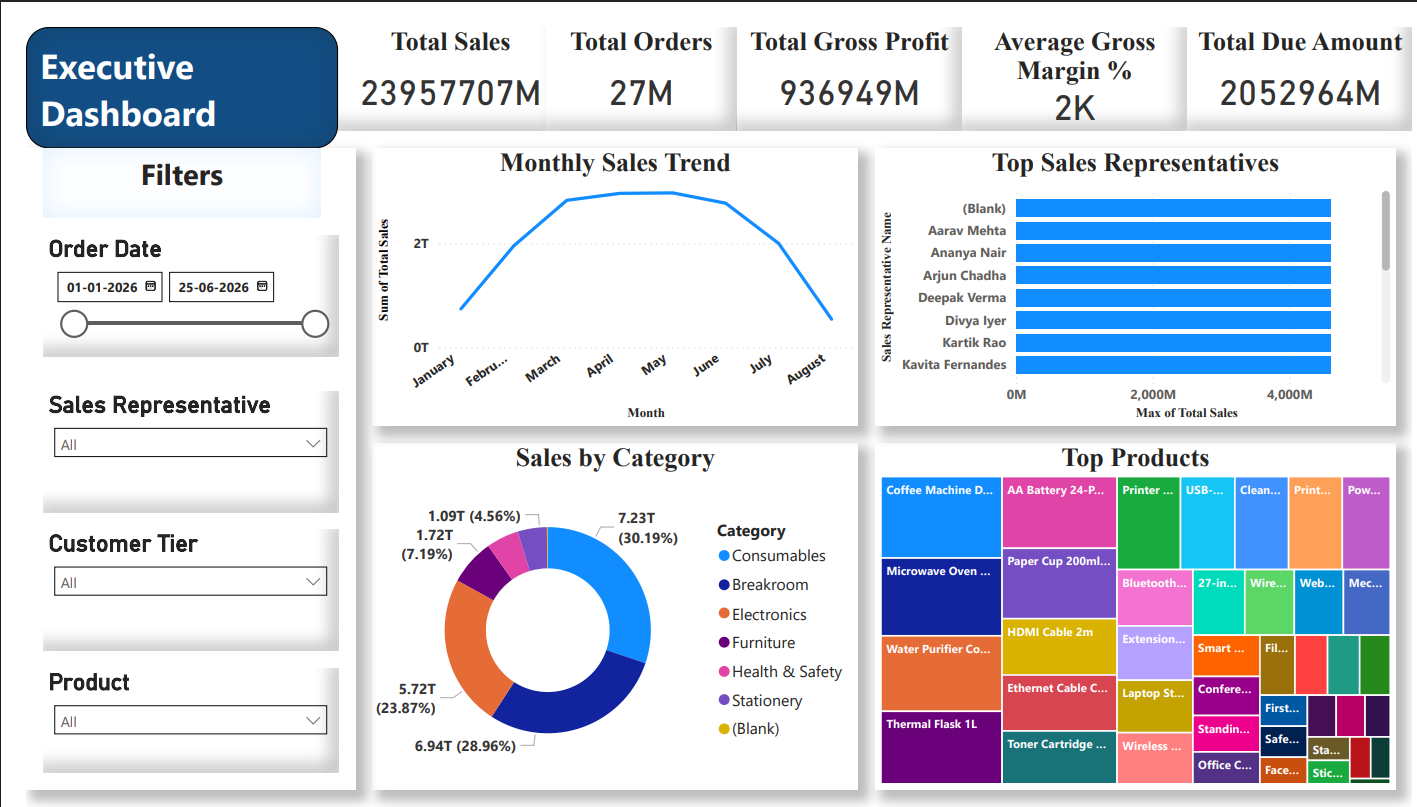

Layout of this report page (visuals, bound fields, positions):
{"tool":"powerbi","page":{"name":"Executive Dashboard","canvas":[1280,720],"ordinal":0},"visuals":[{"type":"advanceCardE03760C5AB684758B56AA29F9E6C257B","title":"Total Sales","fields":{"mainMeasure":["Sum(Sales By Product.Total Sales)"]},"box":[288,0,208,96],"z":0},{"type":"advanceCardE03760C5AB684758B56AA29F9E6C257B","title":"Total Orders","fields":{"mainMeasure":["Sum(Sales By Product.Total Orders)"]},"box":[480,0,176,96],"z":1000},{"type":"advanceCardE03760C5AB684758B56AA29F9E6C257B","title":"Total Gross Profit","fields":{"mainMeasure":["Sum(Sales By Product.Gross Profit)"]},"box":[656,0,208,96],"z":2000},{"type":"advanceCardE03760C5AB684758B56AA29F9E6C257B","title":"Average Gross Margin %","fields":{"mainMeasure":["Sum(Sales By Product.Gross Margin %)"]},"box":[864,0,208,96],"z":3000},{"type":"advanceCardE03760C5AB684758B56AA29F9E6C257B","title":"Total Due Amount","fields":{"mainMeasure":["Sum(Sales By Product.Total Due Amount)"]},"box":[1072,0,208,96],"z":4000},{"type":"donutChart","title":"Sales by Category","fields":{"Category":["Sales By Product.Category"],"Y":["Sum(Sales By Product.Total Sales)"]},"box":[320,384,448,320],"z":5000},{"type":"treemap","title":"Top Products","fields":{"Group":["Sales By Product.Product Name"],"Values":["Sum(Sales By Product.Total Sales)"]},"box":[784,384,480,320],"z":6000},{"type":"lineChart","title":"Monthly Sales Trend","fields":{"Y":["Sum(Sales By Product.Total Sales)"],"Category":["Sales By Product.Payment Date.Variation.Date Hierarchy.Month"]},"box":[320,112,448,256],"z":7000},{"type":"barChart","title":"Top Sales  Representatives","fields":{"Y":["Max(Sales By Product.Total Sales)"],"Category":["Sales By Product.Sales Representative Name"]},"box":[784,112,480,256],"z":8000},{"type":"textbox","box":[0,0,288,112],"z":9000},{"type":"textbox","box":[0,112,304,592],"z":10000},{"type":"textbox","box":[16,112,256,64],"z":11000},{"type":"slicer","title":"Order Date","fields":{"Values":["Sales By Product.Order Date"]},"box":[16,192,272,112],"z":12000},{"type":"slicer","title":"Sales Representative","fields":{"Values":["Sales By Product.Sales Representative Name"]},"box":[16,336,272,112],"z":13000},{"type":"slicer","title":"Product","fields":{"Values":["Sales By Product.Product Name"]},"box":[16,592,272,96],"z":14000},{"type":"slicer","title":"Customer Tier","fields":{"Values":["Sales By Product.Customer Tier"]},"box":[16,464,272,112],"z":15000}]}

Visuals, with their boxes in screenshot pixels (x1, y1, x2, y2), scaled from the page's 1280x720 canvas onto the 1417x807 screenshot:
"Total Sales" advanceCardE03760C5AB684758B56AA29F9E6C257B: box=[319, 0, 549, 108]
"Total Orders" advanceCardE03760C5AB684758B56AA29F9E6C257B: box=[531, 0, 726, 108]
"Total Gross Profit" advanceCardE03760C5AB684758B56AA29F9E6C257B: box=[726, 0, 956, 108]
"Average Gross Margin %" advanceCardE03760C5AB684758B56AA29F9E6C257B: box=[956, 0, 1187, 108]
"Total Due Amount" advanceCardE03760C5AB684758B56AA29F9E6C257B: box=[1187, 0, 1416, 108]
"Sales by Category" donutChart: box=[354, 430, 850, 789]
"Top Products" treemap: box=[868, 430, 1399, 789]
"Monthly Sales Trend" lineChart: box=[354, 126, 850, 412]
"Top Sales  Representatives" barChart: box=[868, 126, 1399, 412]
textbox: box=[0, 0, 319, 126]
textbox: box=[0, 126, 337, 789]
textbox: box=[18, 126, 301, 197]
"Order Date" slicer: box=[18, 215, 319, 341]
"Sales Representative" slicer: box=[18, 377, 319, 502]
"Product" slicer: box=[18, 664, 319, 771]
"Customer Tier" slicer: box=[18, 520, 319, 646]
